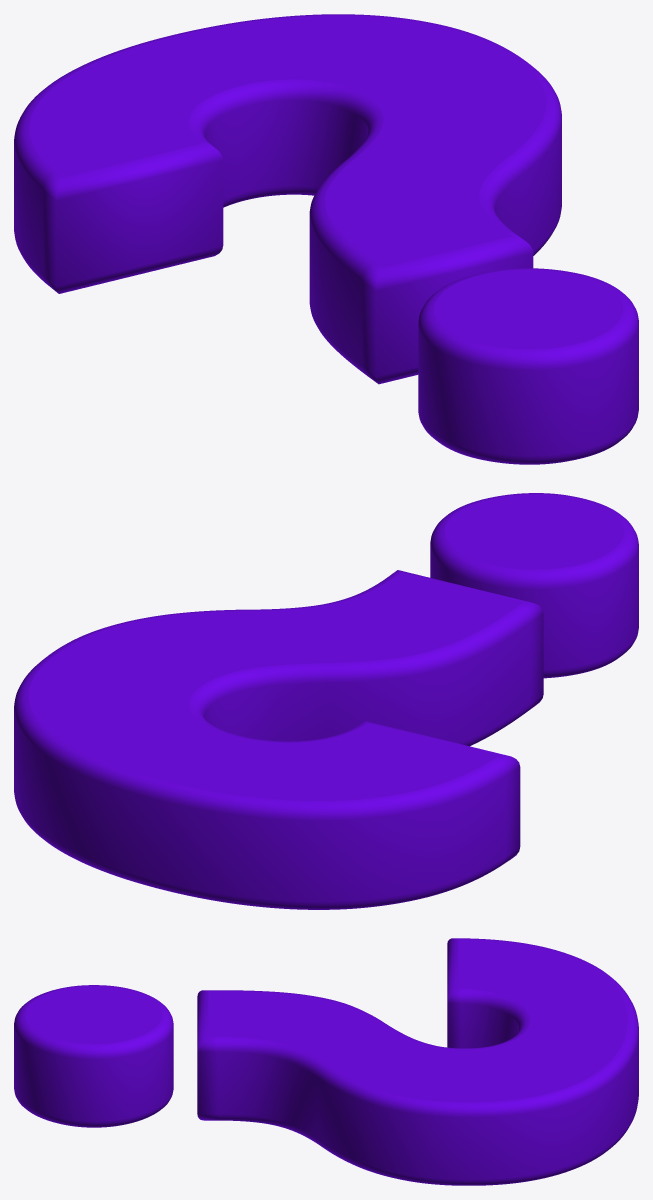
The model's file is hatena.glb.
The picture shows the model from 3 angles, top to bottom: view 1: azimuth 30°, elevation 25°; view 2: azimuth 150°, elevation 25°; view 3: azimuth 270°, elevation 25°; orthographic projection. The views are drawn at different scales.
Parts seen in each view (by area): view 1: hatena; view 2: hatena; view 3: hatena.
Boxes of the visible parts, <box> form: hatena: <box>14,14,638,464</box>; hatena: <box>14,493,638,909</box>; hatena: <box>14,938,638,1185</box>.
Bounding box in the file's own units: 0.3596 × 0.08 × 0.5492.
